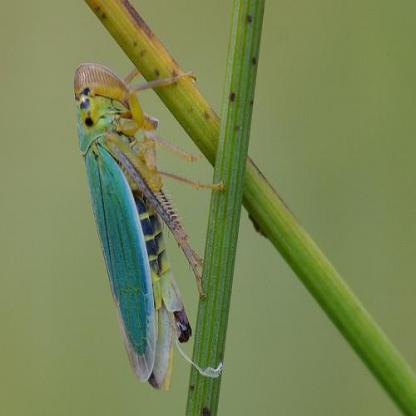Green-Leafhopper: (69, 56, 235, 397)
